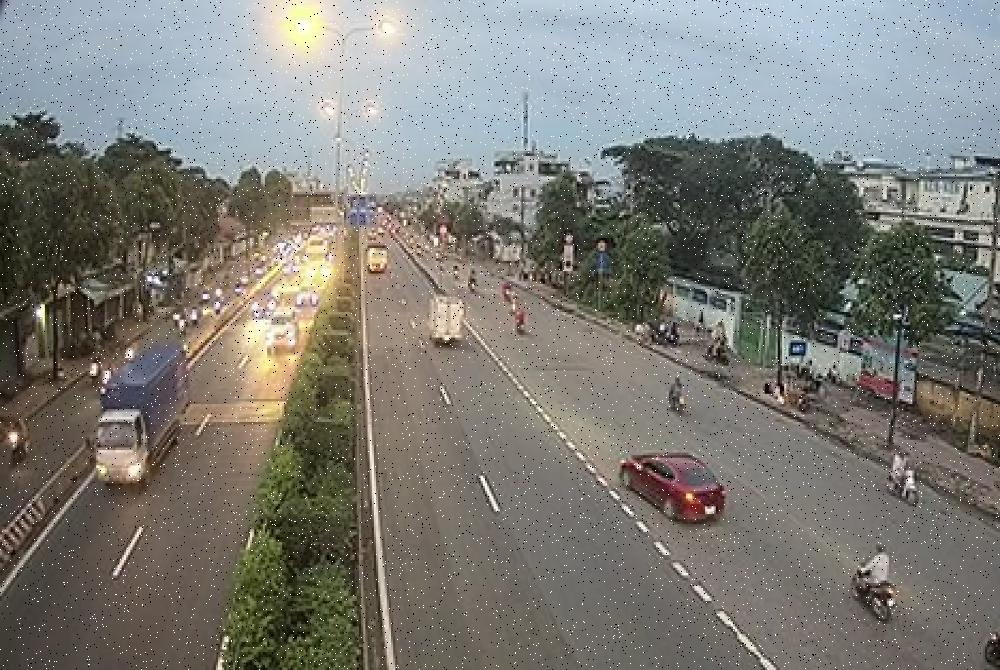car: (616, 452, 728, 526)
truck: (95, 345, 189, 488), (430, 295, 466, 344)
